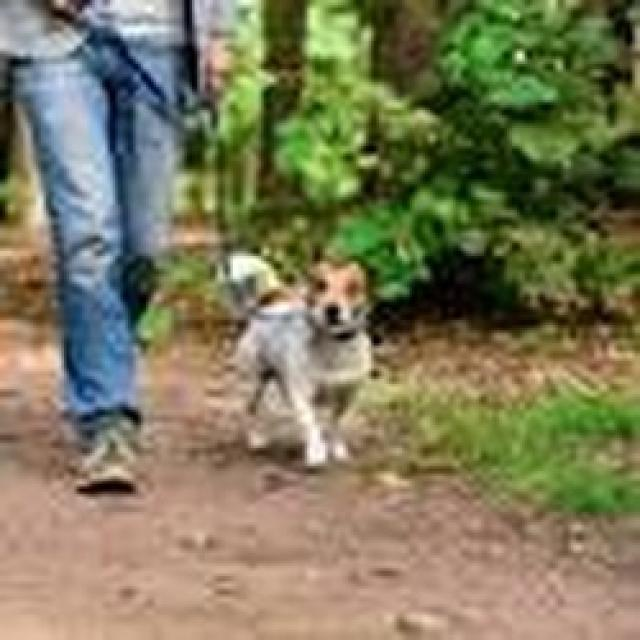dog: (226, 252, 377, 470)
